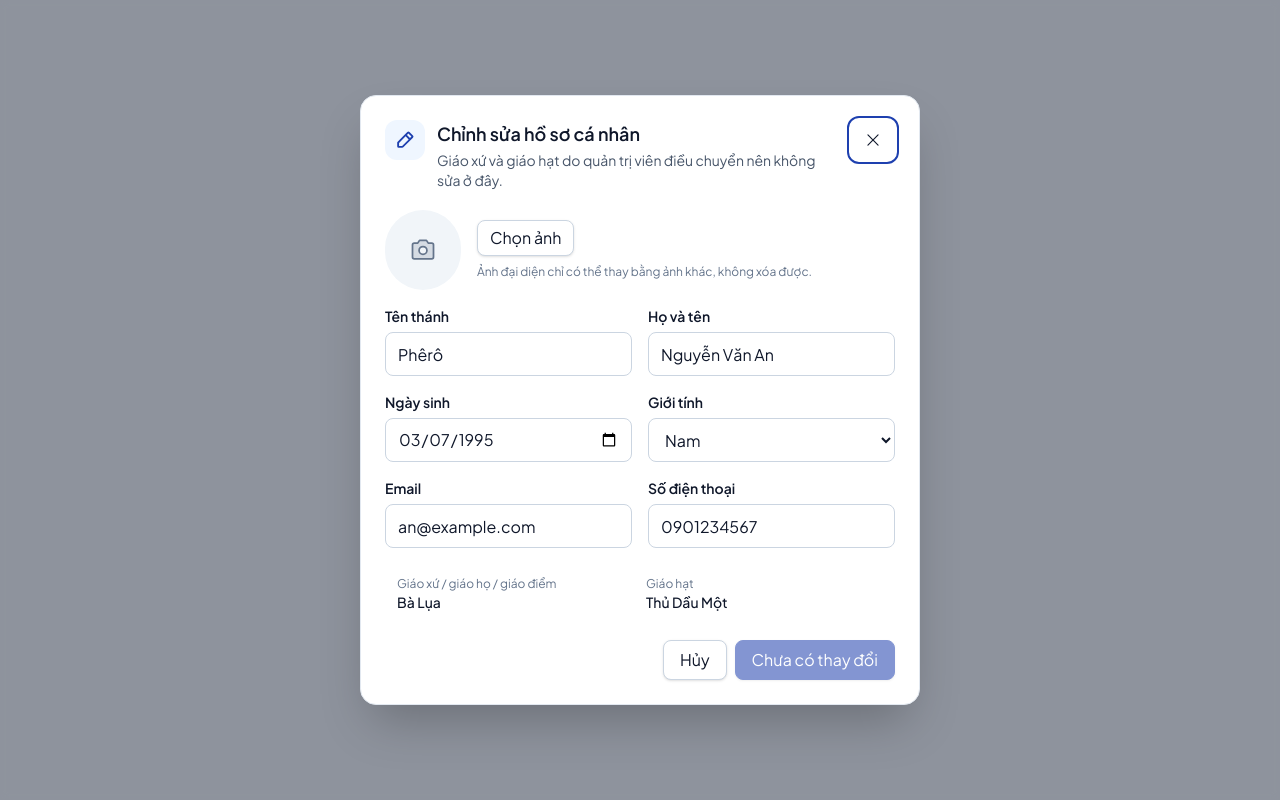
Test: EditProfileDialog › asks for the current password when the email changes and blocks saving without it
This screenshot has width=1280, height=800.
Replace the text in the field labelled "Email" with "moi@example.com" at (508, 526), box [385,504,632,548]
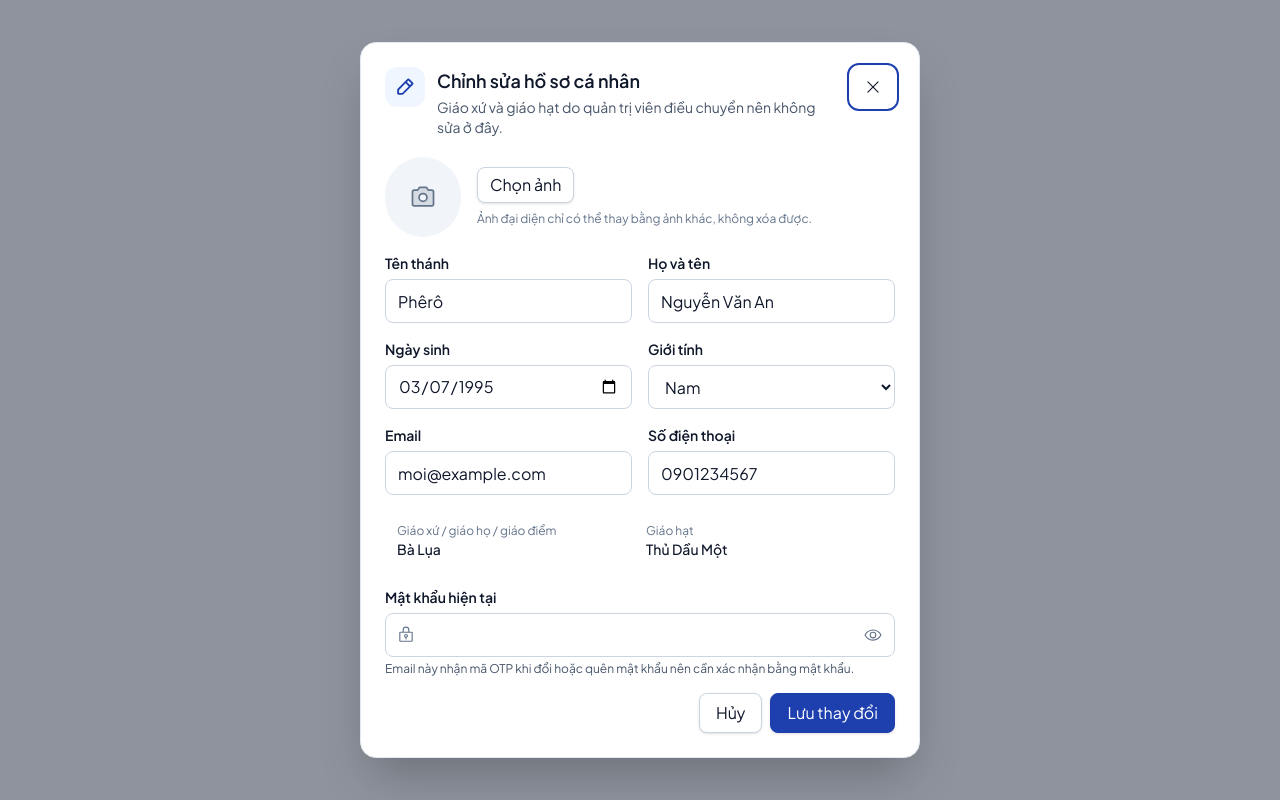
Expected: the password field labelled "Mật khẩu hiện tại" is shown, [385,613,895,657]
Click the button "Lưu thay đổi" at (833, 713), box [770,693,895,733]
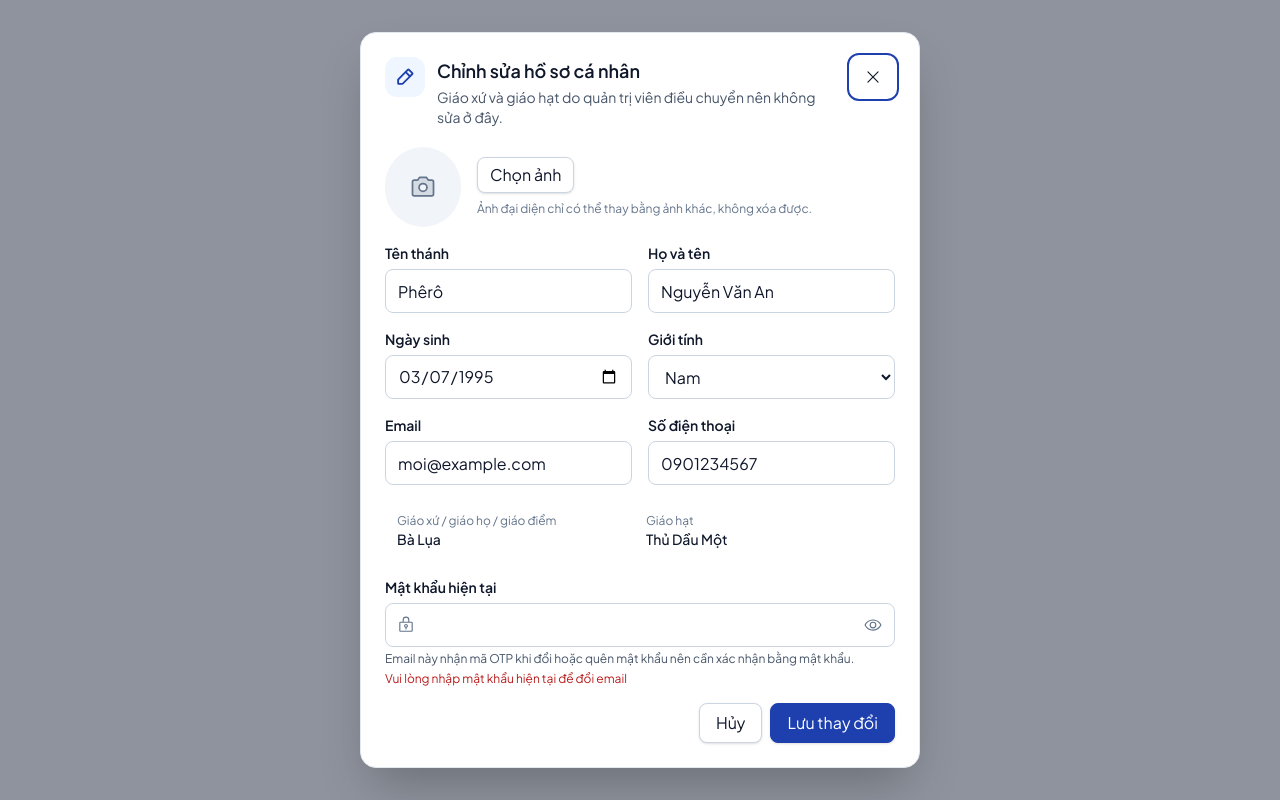
Expected: the text "Vui lòng nhập mật khẩu hiện tại để đổi email" is shown, [385,671,627,686]
